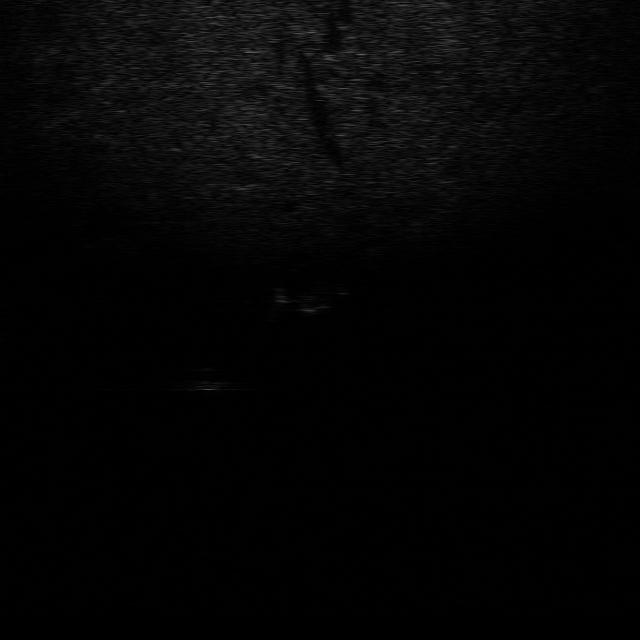ball: (176, 362, 239, 396)
human body: (265, 283, 353, 320)
